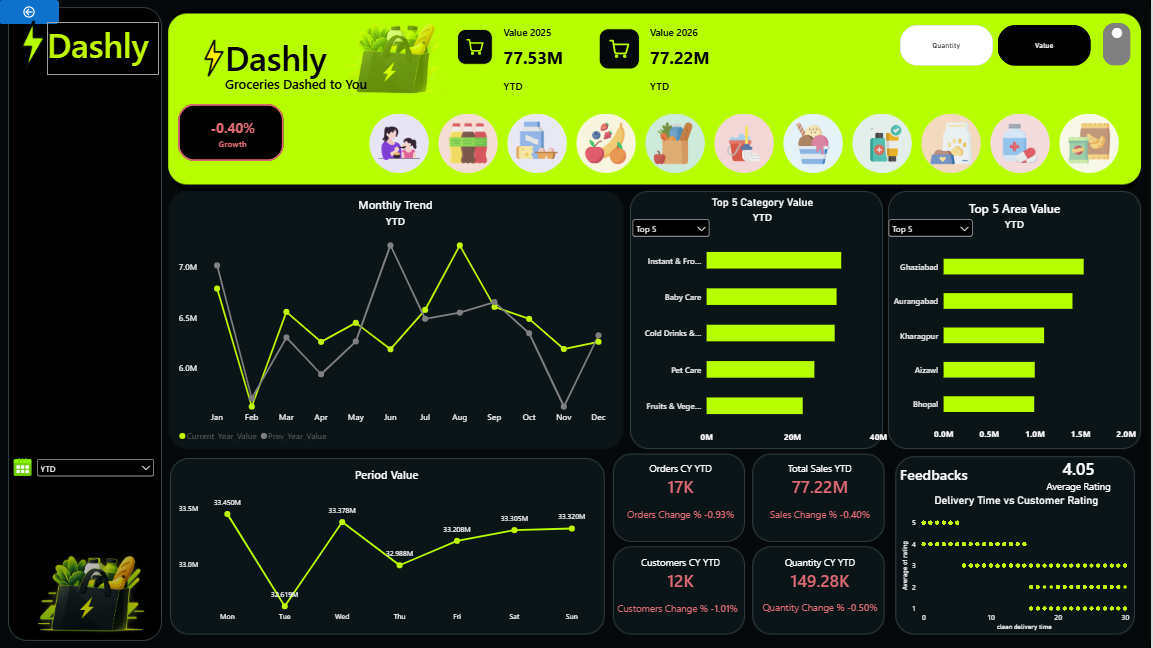

What the dashboard file says about the page in this screenshot:
{"tool":"powerbi","page":{"name":"Dashly","canvas":[1920,1080],"ordinal":0},"visuals":[{"type":"cardVisual","fields":{"Data":["Sale_Measures.Prev_Year_Value","Sale_Measures.Current_Year_Value"]},"box":[825,43.3,481.8,145],"z":0},{"type":"advancedSlicerVisual","fields":{"Values":["MasterTable.category"]},"box":[613.3,188.3,1265,101.7],"z":1000},{"type":"advancedSlicerVisual","fields":{"Values":["AUTO_DATE.Options"]},"box":[1840,38.3,46.7,71.7],"z":2000},{"type":"image","box":[988.3,45,91.5,73.4],"z":3000},{"type":"actionButton","box":[0,0,100,40],"z":4000},{"type":"image","box":[761.7,42.3,62.5,73.4],"z":5000},{"type":"cardVisual","fields":{"Data":["Sale_Measures.CY_PY_GROWTH"]},"box":[298.3,173.3,176.7,95],"z":6000},{"type":"clusteredBarChart","fields":{"Category":["MasterTable.area"],"Y":["Sale_Measures.topN_Area_by_Value"]},"box":[1473.3,318.3,438.3,436.7],"z":7000},{"type":"lineChart","title":"Monthly Trend","fields":{"Category":["Calendar.Month"],"Y":["Sale_Measures.Current_Year_Value"],"Y2":["Sale_Measures.Prev_Year_Value"]},"box":[283.3,315,755,441.7],"z":8000},{"type":"slicer","fields":{"Values":["Rank_table.Rank"]},"box":[1461.7,346.7,181.7,53.3],"z":9000},{"type":"clusteredBarChart","fields":{"Category":["MasterTable.category"],"Y":["Sale_Measures.TopN_Category_by_Value"]},"box":[1048.3,311.7,448.3,448.3],"z":10000},{"type":"slicer","fields":{"Values":["Rank_table.Rank"]},"box":[1035,346.7,170,65],"z":11000},{"type":"image","box":[328.3,38.3,61.7,116.7],"z":12000},{"type":"image","box":[536.7,20,241.7,153.3],"z":13000},{"type":"textbox","box":[376.7,58.3,331.7,118.3],"z":14000},{"type":"textbox","box":[376.7,125,407.1,50],"z":15000},{"type":"advancedSlicerVisual","fields":{"Values":["Value_Options.Value_Tyoe"]},"box":[1501.7,41.7,318.3,68.3],"z":17000},{"type":"textbox","box":[80,36.7,186.7,88.3],"z":18000},{"type":"slicer","fields":{"Values":["Time_Period.Options"]},"box":[58.3,760,205,48.3],"z":19000},{"type":"image","box":[16.7,28.3,83.3,95],"z":20000},{"type":"image","box":[24.3,897.1,258.3,183.3],"z":21000},{"type":"image","box":[23,764,31.7,30],"z":22000},{"type":"lineChart","title":"Period Value","fields":{"Category":["Calendar.Day"],"Y":["Sale_Measures.Period_Value"]},"box":[282.9,764.3,725.7,291.4],"z":23000},{"type":"cardVisual","fields":{"Data":["MasterTable.Orders CY YTD"]},"box":[1008.3,755,255,155],"z":24000},{"type":"cardVisual","fields":{"Data":["MasterTable.Sales CY YTD"]},"box":[1235,755,266.7,155],"z":25000},{"type":"cardVisual","fields":{"Data":["MasterTable.Quantity CY YTD"]},"box":[1235,911.7,266.7,153.3],"z":26000},{"type":"cardVisual","fields":{"Data":["MasterTable.Customers CY YTD"]},"box":[998.3,911.7,275,155],"z":27000},{"type":"textbox","box":[1501.2,760.4,226.7,78.3],"z":27002},{"type":"cardVisual","fields":{"Data":["MasterTable.AVG_rating"]},"box":[1720.4,760.4,158.3,63.3],"z":27003},{"type":"scatterChart","title":"Delivery Time vs Customer Rating","fields":{"Category":["MasterTable.order_id"],"X":["MasterTable.clean delivery time"],"Y":["Avg(MasterTable.rating)"]},"box":[1487.6,808.8,414.2,258.5],"z":27004}]}

Visuals, with their boxes on the page's 1920x1080 design canvas (x1, y1, x2, y2). These are canvas units, not pixel positions in the 1153x648 screenshot, which may show the page scaled, cropped or inside an application window:
cardVisual - Sale_Measures.Prev_Year_Value x Sale_Measures.Current_Year_Value: 825/43/1307/188
advancedSlicerVisual - MasterTable.category: 613/188/1878/290
advancedSlicerVisual - AUTO_DATE.Options: 1840/38/1887/110
image: 988/45/1080/118
actionButton: 0/0/100/40
image: 762/42/824/116
cardVisual - Sale_Measures.CY_PY_GROWTH: 298/173/475/268
clusteredBarChart - MasterTable.area x Sale_Measures.topN_Area_by_Value: 1473/318/1912/755
"Monthly Trend" lineChart: 283/315/1038/757
slicer - Rank_table.Rank: 1462/347/1643/400
clusteredBarChart - MasterTable.category x Sale_Measures.TopN_Category_by_Value: 1048/312/1497/760
slicer - Rank_table.Rank: 1035/347/1205/412
image: 328/38/390/155
image: 537/20/778/173
textbox: 377/58/708/177
textbox: 377/125/784/175
advancedSlicerVisual - Value_Options.Value_Tyoe: 1502/42/1820/110
textbox: 80/37/267/125
slicer - Time_Period.Options: 58/760/263/808
image: 17/28/100/123
image: 24/897/283/1080
image: 23/764/55/794
"Period Value" lineChart: 283/764/1009/1056
cardVisual - MasterTable.Orders CY YTD: 1008/755/1263/910
cardVisual - MasterTable.Sales CY YTD: 1235/755/1502/910
cardVisual - MasterTable.Quantity CY YTD: 1235/912/1502/1065
cardVisual - MasterTable.Customers CY YTD: 998/912/1273/1067
textbox: 1501/760/1728/839
cardVisual - MasterTable.AVG_rating: 1720/760/1879/824
"Delivery Time vs Customer Rating" scatterChart: 1488/809/1902/1067
